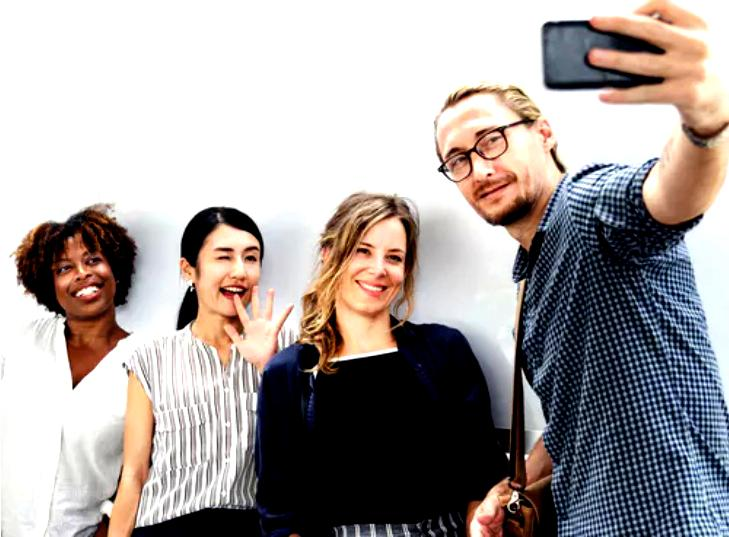face: (437, 91, 529, 221), (338, 218, 404, 315), (197, 225, 262, 319), (54, 235, 116, 315)
